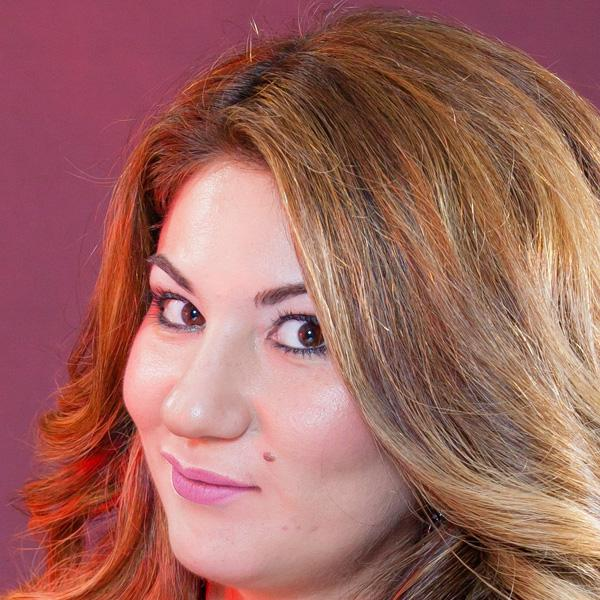Eyes: (257, 305, 349, 362), (146, 279, 213, 341)
